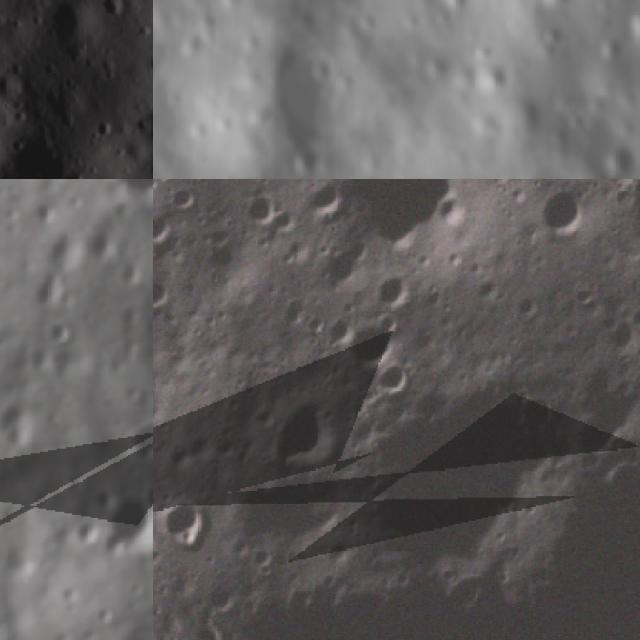crater: (339, 350, 573, 604), (58, 0, 153, 179), (311, 179, 495, 269), (261, 384, 357, 485), (562, 360, 640, 476), (31, 0, 110, 66), (336, 306, 407, 379), (526, 179, 595, 250), (313, 224, 376, 298), (153, 488, 217, 556), (100, 488, 153, 565), (233, 179, 288, 235), (295, 179, 349, 230), (368, 350, 418, 404), (368, 268, 419, 315), (600, 310, 640, 358), (159, 179, 204, 221), (271, 290, 312, 335), (470, 265, 511, 310), (509, 285, 552, 326), (124, 406, 153, 466), (196, 213, 236, 256), (153, 201, 183, 258), (619, 179, 640, 247), (300, 302, 332, 344), (96, 0, 142, 27), (153, 271, 178, 320), (40, 314, 74, 348), (617, 288, 640, 334), (286, 153, 318, 179), (597, 179, 640, 196), (153, 514, 167, 565), (143, 474, 153, 508), (146, 255, 153, 289)
